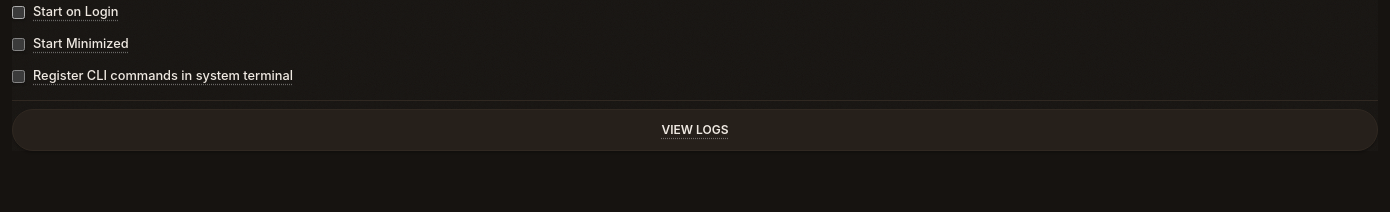
Scenario: Settings Component › handles global CLI IPC rejection gracefully and displays error message
Click the checkbox with test id "checkbox-global-cli". click: [18, 76]
box: [12,70,25,82]
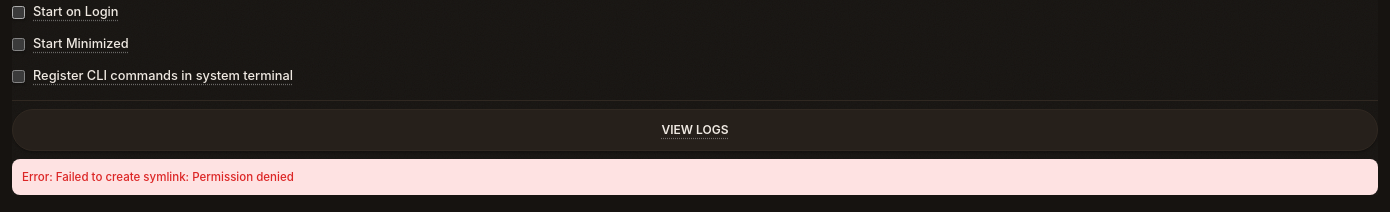
Expected: the text "Error: Failed to create symlink: Permission denied" is shown, [12,159,1378,195]
